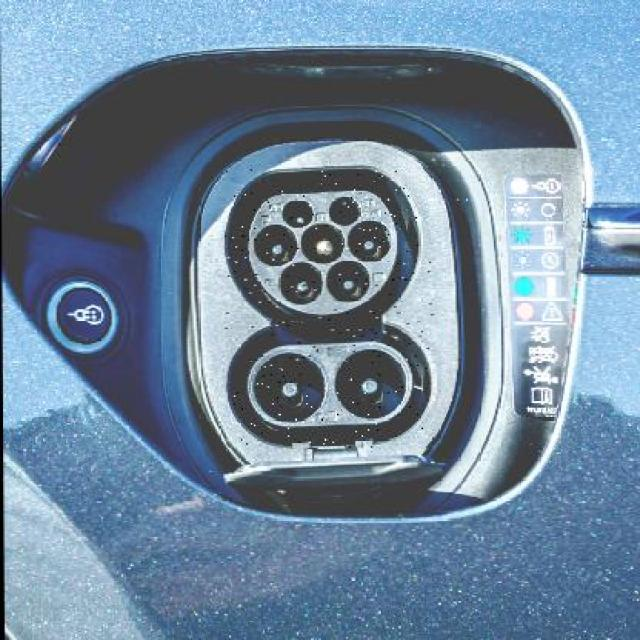CCS2: (195, 138, 472, 472)
